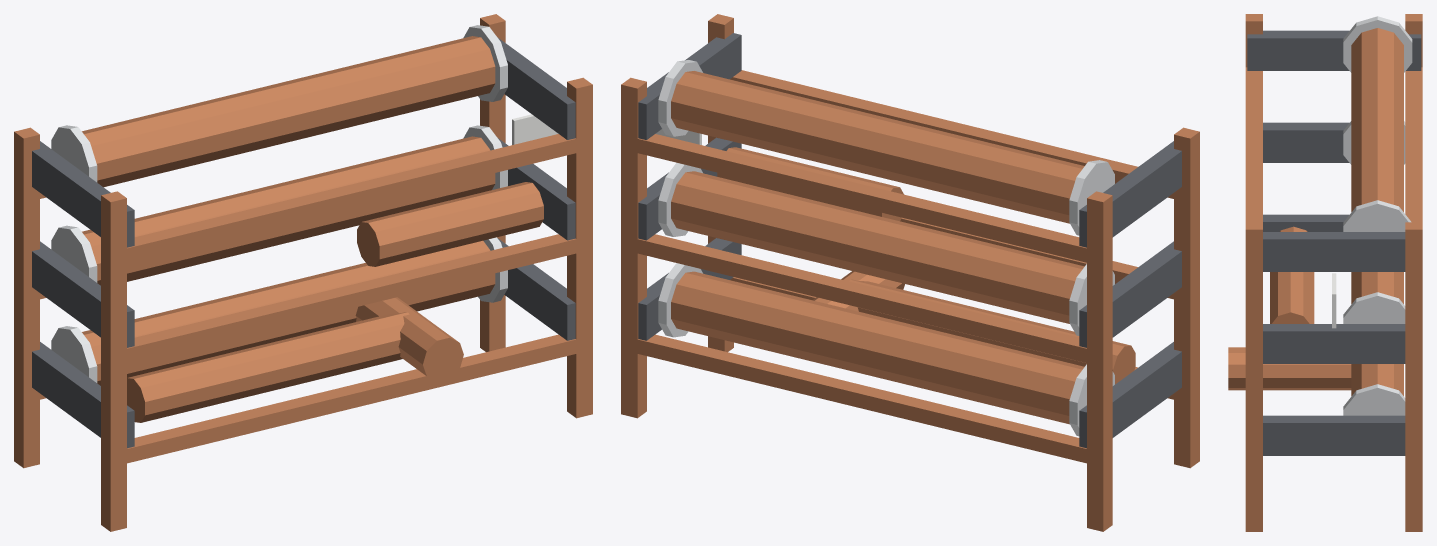
The model's file is shipyard-and-dry-dock-shipyard-and-dry-dock-pipe-spool-fec408f8__37958.glb.
3 views of the same model, side by side, from view 1: azimuth 30°, elevation 25°; view 2: azimuth 150°, elevation 25°; view 3: azimuth 270°, elevation 25° (orthographic). The views are drawn at different scales.
Visible parts, largest first — view 1: shipyard-and-dry-dock-pipe-spool-rack; view 2: shipyard-and-dry-dock-pipe-spool-rack; view 3: shipyard-and-dry-dock-pipe-spool-rack.
Boxes of the visible parts, bbox=[...] form: shipyard-and-dry-dock-pipe-spool-rack: bbox=[14, 14, 592, 531]; shipyard-and-dry-dock-pipe-spool-rack: bbox=[621, 14, 1199, 531]; shipyard-and-dry-dock-pipe-spool-rack: bbox=[1228, 14, 1422, 531].
Bounding box in the file's own units: 3.63 × 2.39 × 1.34.
